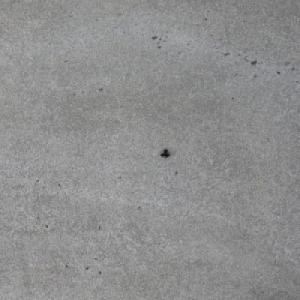BoltWasher: (159, 148, 170, 158)
